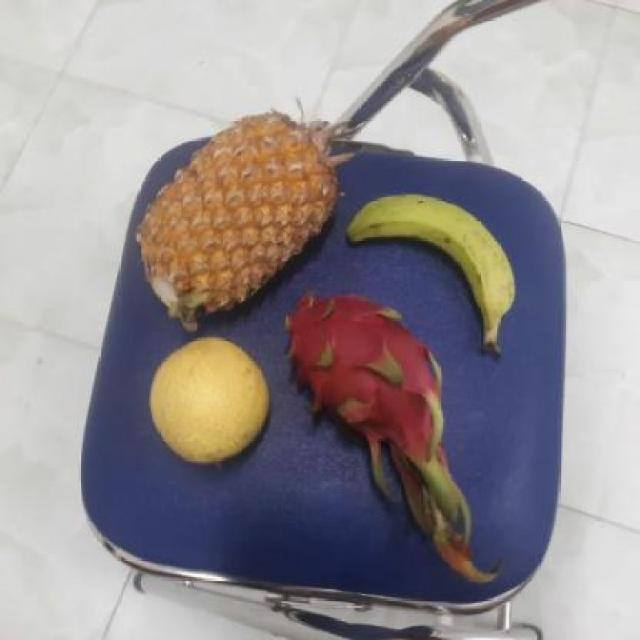banana: (339, 192, 513, 346)
dragon fruit: (273, 292, 449, 462)
pear: (144, 341, 270, 465)
pineapple: (132, 118, 338, 324)
